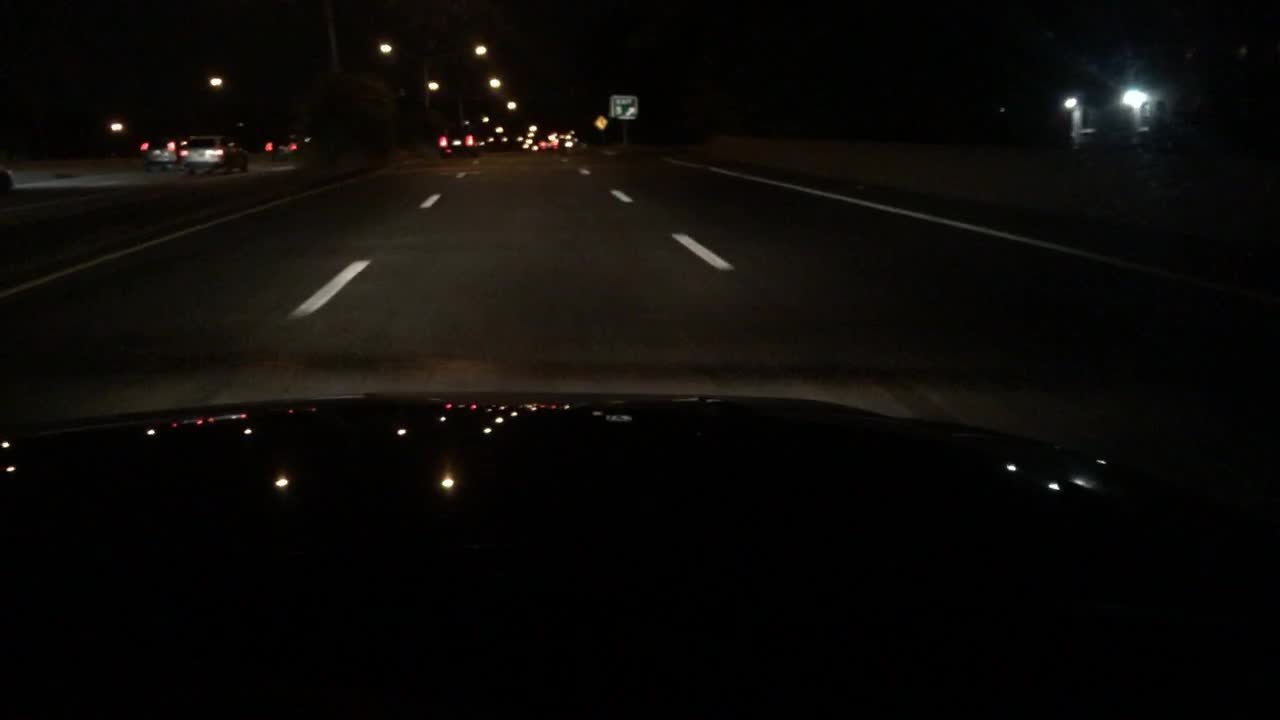car: (180, 133, 247, 174), (136, 131, 181, 164), (436, 127, 480, 158), (263, 135, 305, 159), (1, 161, 18, 198), (536, 135, 559, 153)
traffic sign: (610, 94, 639, 119), (593, 112, 607, 131)
